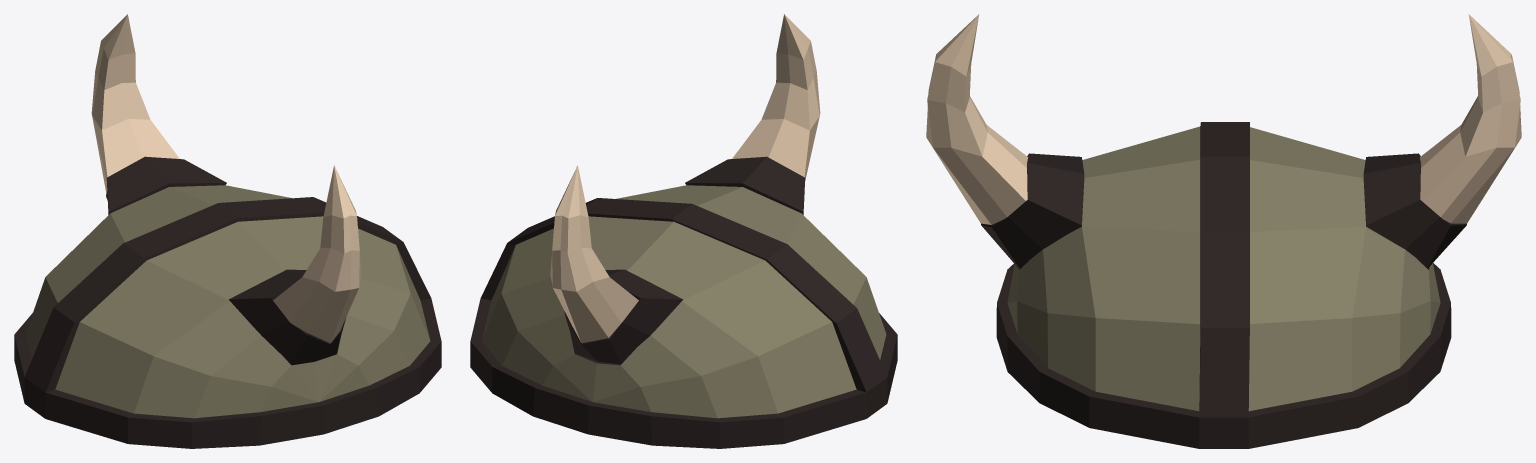
File: VikingHelmet.fbx
3 renders of one model, left to right at view 1: azimuth 30°, elevation 25°; view 2: azimuth 150°, elevation 25°; view 3: azimuth 270°, elevation 25°, orthographic. The views are drawn at different scales.
Parts seen in each view (by area): view 1: Sphere; view 2: Sphere; view 3: Sphere.
Boxes of the visible parts, bbox=[...] form: Sphere: bbox=[14, 14, 441, 448]; Sphere: bbox=[470, 14, 897, 448]; Sphere: bbox=[926, 14, 1521, 448].
Bounding box in the file's own units: 211 × 143 × 237.
